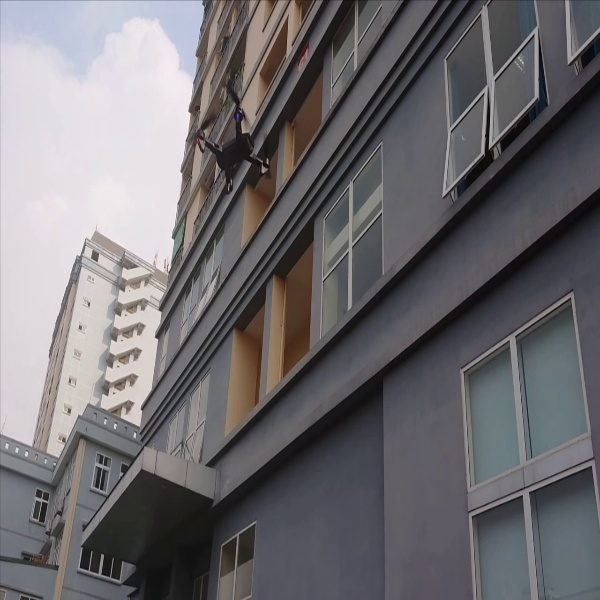drone: (184, 67, 280, 201)
